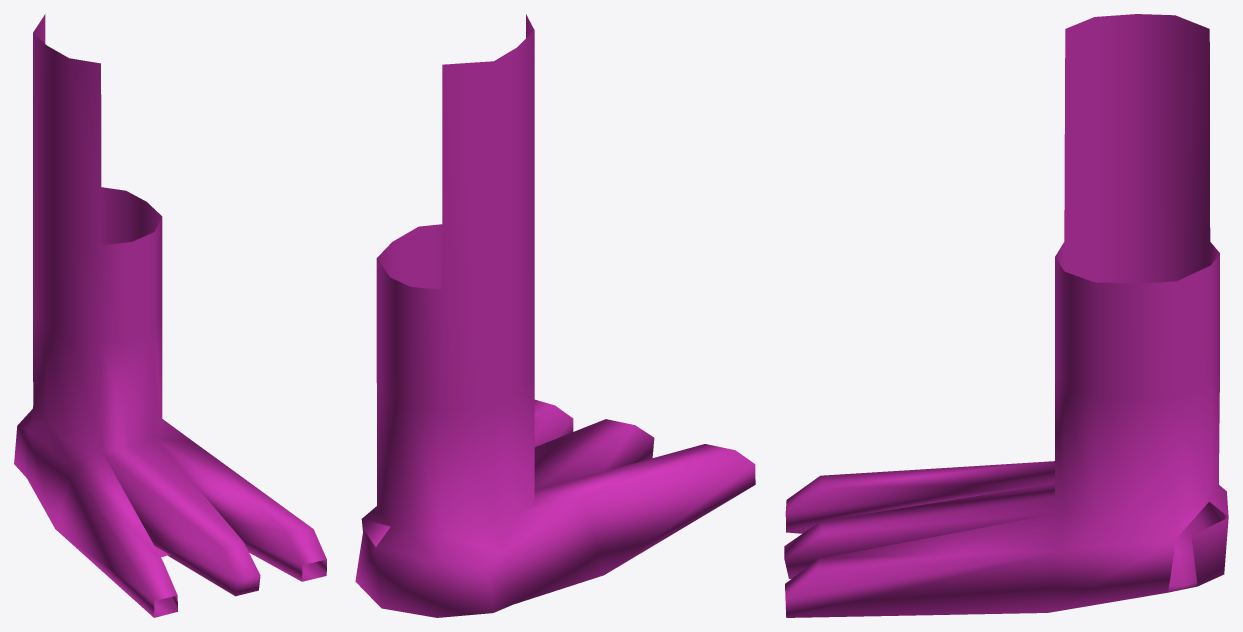
Rendered from pata1.obj.
3 views of the same model, side by side, from view 1: azimuth 30°, elevation 25°; view 2: azimuth 150°, elevation 25°; view 3: azimuth 270°, elevation 25° (orthographic). The views are drawn at different scales.
Visible parts, largest first — view 1: Body.004; view 2: Body.004; view 3: Body.004.
Boxes of the visible parts, box(x1,y1,x2,y2) form: Body.004: box(14, 14, 326, 617); Body.004: box(355, 14, 755, 617); Body.004: box(784, 14, 1228, 617).
Size of the model in its own units: 0.0515 by 0.1294 by 0.0981.
